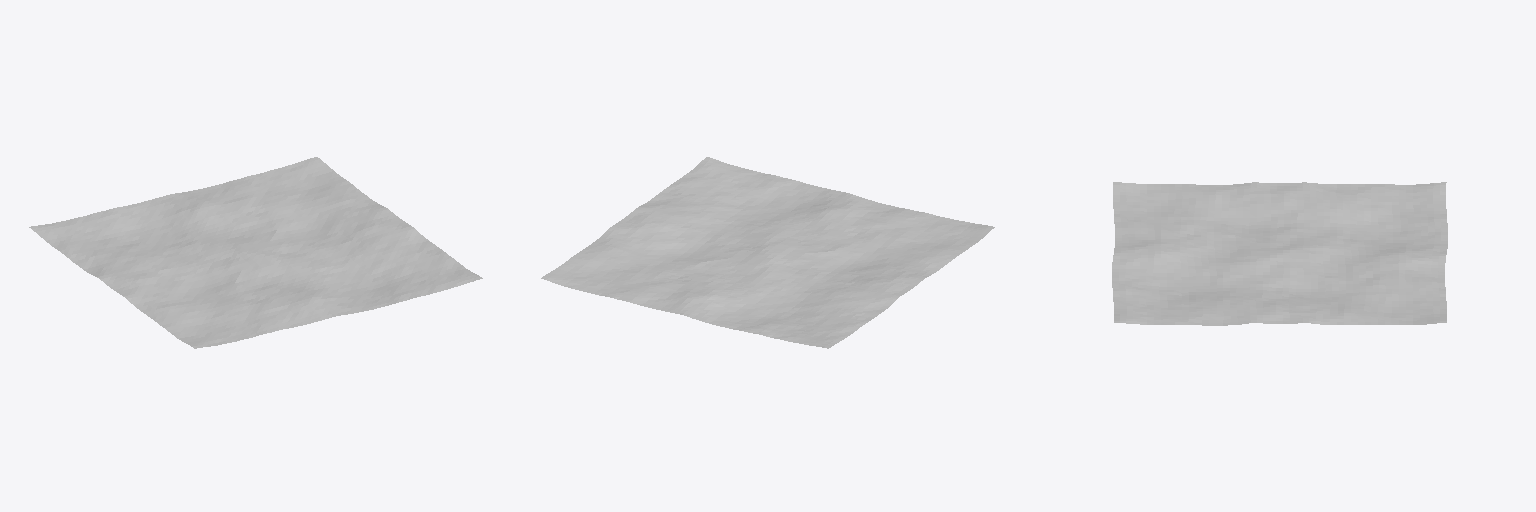
The model's file is sea.obj.
3 renders of one model, left to right at view 1: azimuth 30°, elevation 25°; view 2: azimuth 150°, elevation 25°; view 3: azimuth 270°, elevation 25°, orthographic.
Visible parts, largest first — view 1: Cube; view 2: Cube; view 3: Cube.
Boxes of the visible parts, x1=… form: Cube: x1=29, y1=157, x2=482, y2=348; Cube: x1=541, y1=157, x2=994, y2=348; Cube: x1=1112, y1=182, x2=1447, y2=325.
Size of the model in its own units: 54.19 by 1.18 by 54.5.